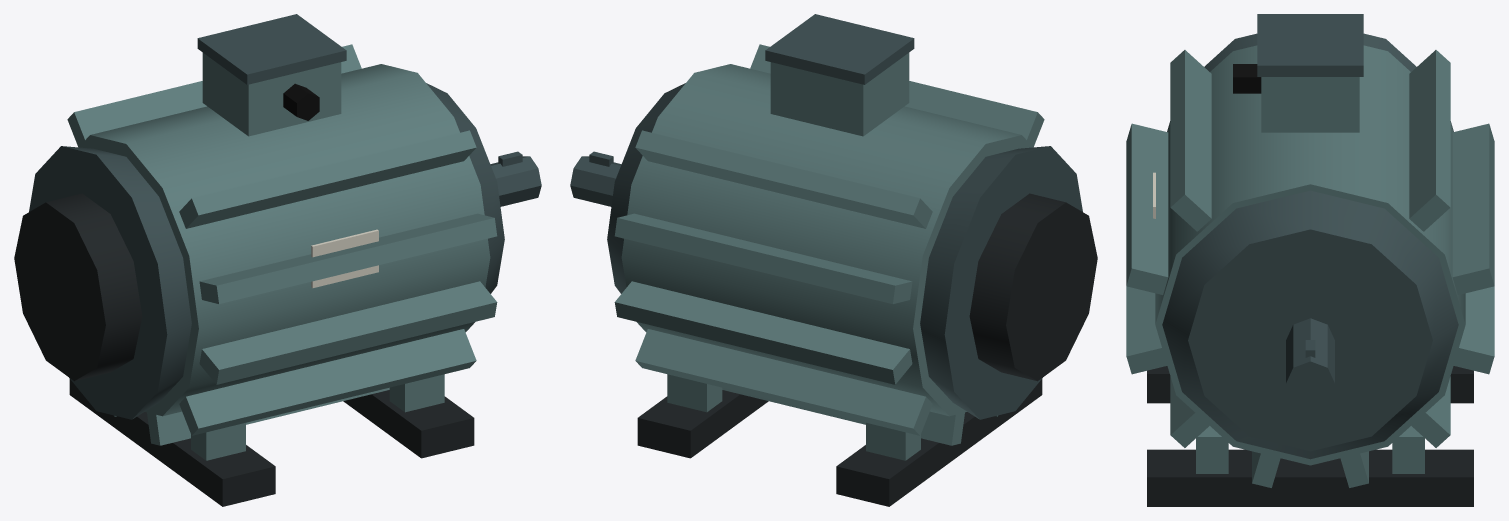
The model's file is scrap_electric_motor.fbx.
The picture shows the model from 3 angles, left to right: view 1: azimuth 30°, elevation 25°; view 2: azimuth 150°, elevation 25°; view 3: azimuth 270°, elevation 25°; orthographic projection. The views are drawn at different scales.
Parts seen in each view (by area): view 1: scrap_electric_motor; view 2: scrap_electric_motor; view 3: scrap_electric_motor.
Part boxes in pixels (left/top/right/bottom): scrap_electric_motor: left=14, top=14, right=541, bottom=506; scrap_electric_motor: left=570, top=14, right=1097, bottom=506; scrap_electric_motor: left=1126, top=14, right=1494, bottom=506.
Size of the model in its own units: 0.71 by 0.5425 by 0.4508.
Materials: 1 (1 with a texture image).
